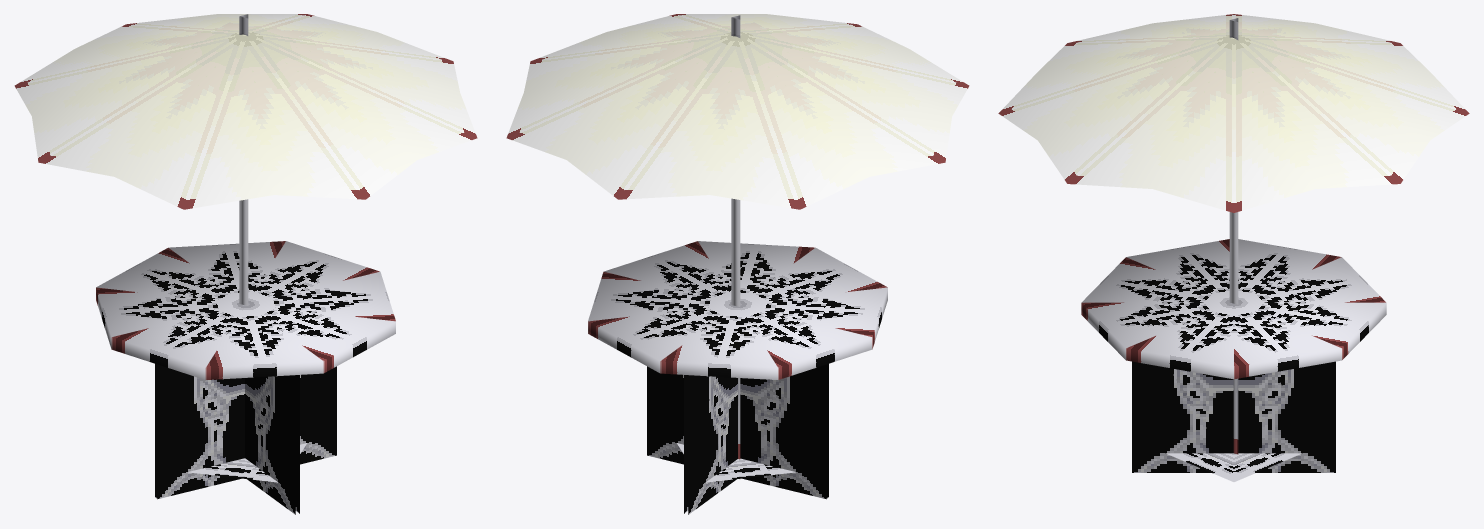
3 renders of one model, left to right at view 1: azimuth 30°, elevation 25°; view 2: azimuth 150°, elevation 25°; view 3: azimuth 270°, elevation 25°, orthographic.
Visible parts, largest first — view 1: 3432IMIG20_31; view 2: 3432IMIG20_31; view 3: 3432IMIG20_31.
Boxes of the visible parts, <box> form: 3432IMIG20_31: <box>14,14,477,514</box>; 3432IMIG20_31: <box>506,14,969,514</box>; 3432IMIG20_31: <box>998,14,1469,481</box>.
Size of the model in its own units: 1.9 by 2.01 by 1.9.
4 materials, 4 textured.
